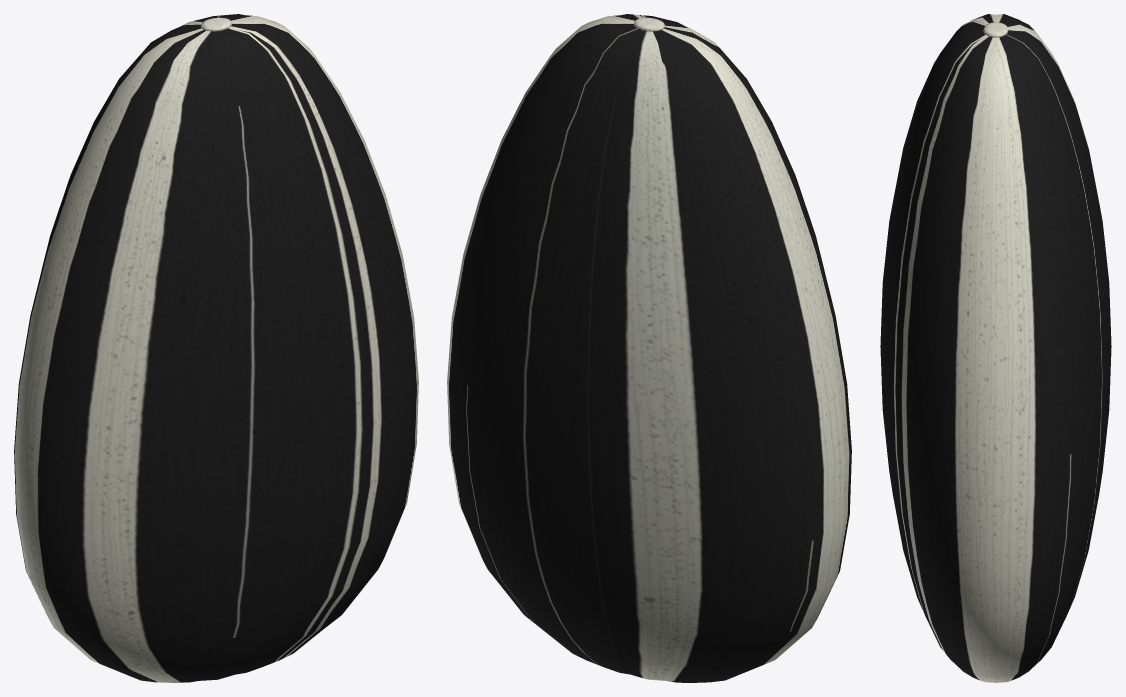
Rendered from Sunflower_Seed_Low_Poly.obj.
The picture shows the model from 3 angles, left to right: view 1: azimuth 30°, elevation 25°; view 2: azimuth 150°, elevation 25°; view 3: azimuth 270°, elevation 25°; orthographic projection. The views are drawn at different scales.
Visible parts, largest first — view 1: Sunflower_Seed_Sphere.001; view 2: Sunflower_Seed_Sphere.001; view 3: Sunflower_Seed_Sphere.001.
Part boxes in pixels (left/top/right/bottom): Sunflower_Seed_Sphere.001: left=14, top=14, right=418, bottom=682; Sunflower_Seed_Sphere.001: left=447, top=14, right=851, bottom=682; Sunflower_Seed_Sphere.001: left=880, top=14, right=1111, bottom=682.
Size of the model in its own units: 1.82 by 2.9 by 0.965.
